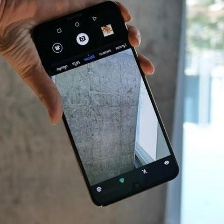phone: (22, 0, 182, 213)
